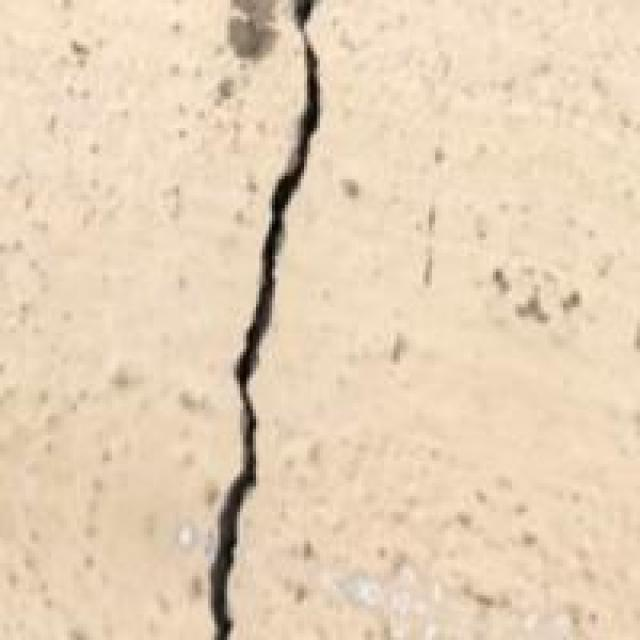crack: (176, 0, 365, 637)
